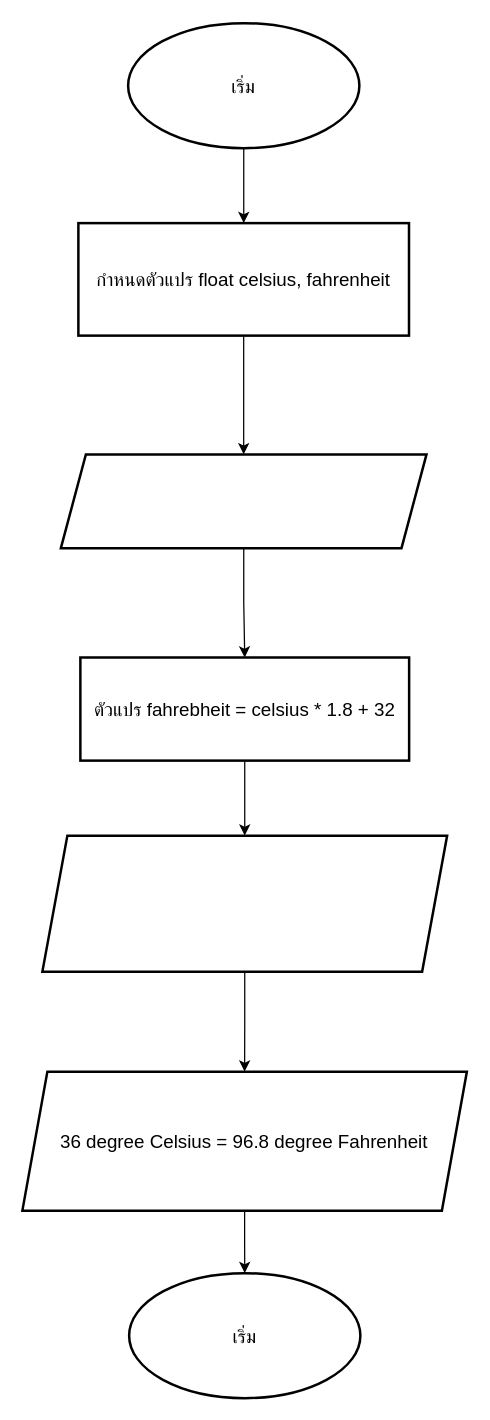
This 490x1420 diagram has some shape labels left out. Each missing label, with the box of its shape:
รับค่า องศาเซลเซียส เก็บไว้ใน celsius: (59, 452, 427, 549)
แสดงค่าในตัวแปร fahrebheit: (40, 834, 448, 972)
